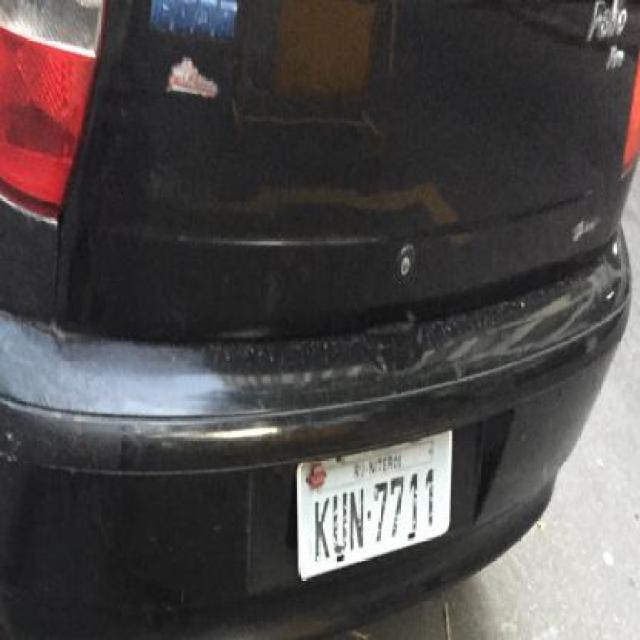old_plate: (291, 425, 457, 586)
